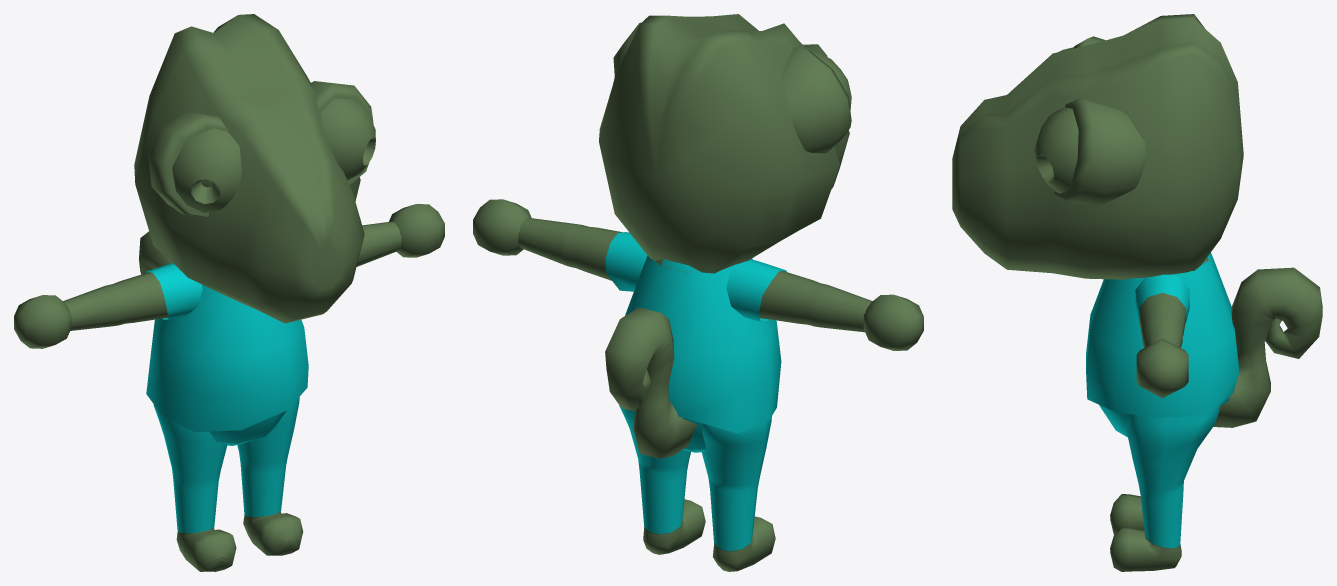
File: Carl_FBX.fbx
3 renders of one model, left to right at view 1: azimuth 30°, elevation 25°; view 2: azimuth 150°, elevation 25°; view 3: azimuth 270°, elevation 25°, orthographic. The views are drawn at different scales.
Visible parts, largest first — view 1: Carl_Geo; view 2: Carl_Geo; view 3: Carl_Geo.
Boxes of the visible parts, <box> form: Carl_Geo: <box>14,14,444,571</box>; Carl_Geo: <box>473,14,923,571</box>; Carl_Geo: <box>952,14,1322,571</box>.
Bounding box in the file's own units: 7.05 × 8.16 × 5.28.
